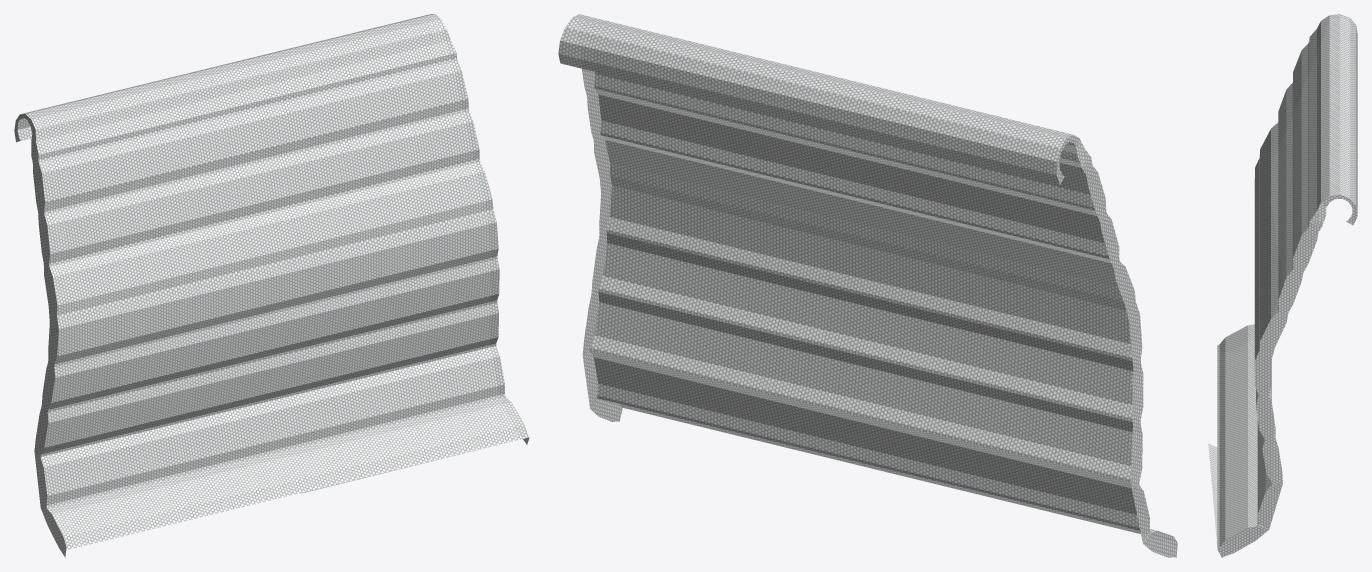
The picture shows the model from 3 angles, left to right: view 1: azimuth 30°, elevation 25°; view 2: azimuth 150°, elevation 25°; view 3: azimuth 270°, elevation 25°; orthographic projection. The views are drawn at different scales.
Size of the model in its own units: 0.8888 by 0.7166 by 0.2756.
Materials: 2 (2 with a texture image).
